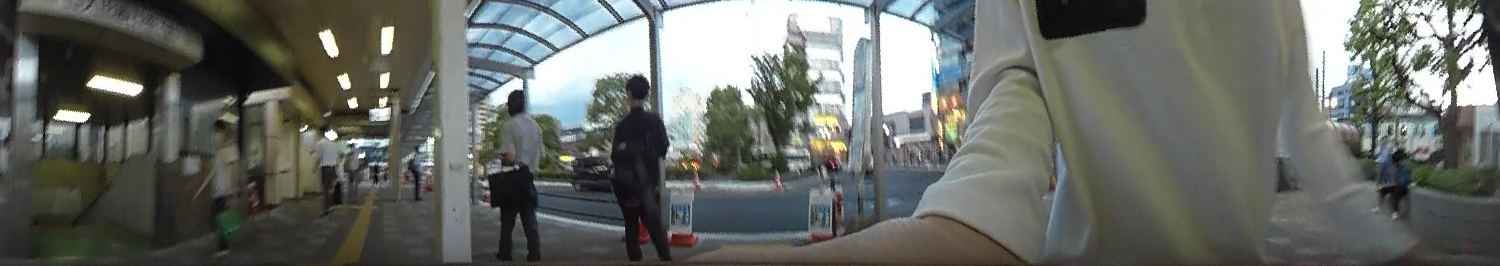difficult_person: (1382, 147, 1415, 217), (339, 140, 364, 204), (1373, 128, 1394, 204), (402, 140, 427, 201), (367, 156, 383, 185)
person: (604, 64, 689, 261), (488, 84, 555, 266), (197, 114, 249, 255), (307, 121, 341, 216)
